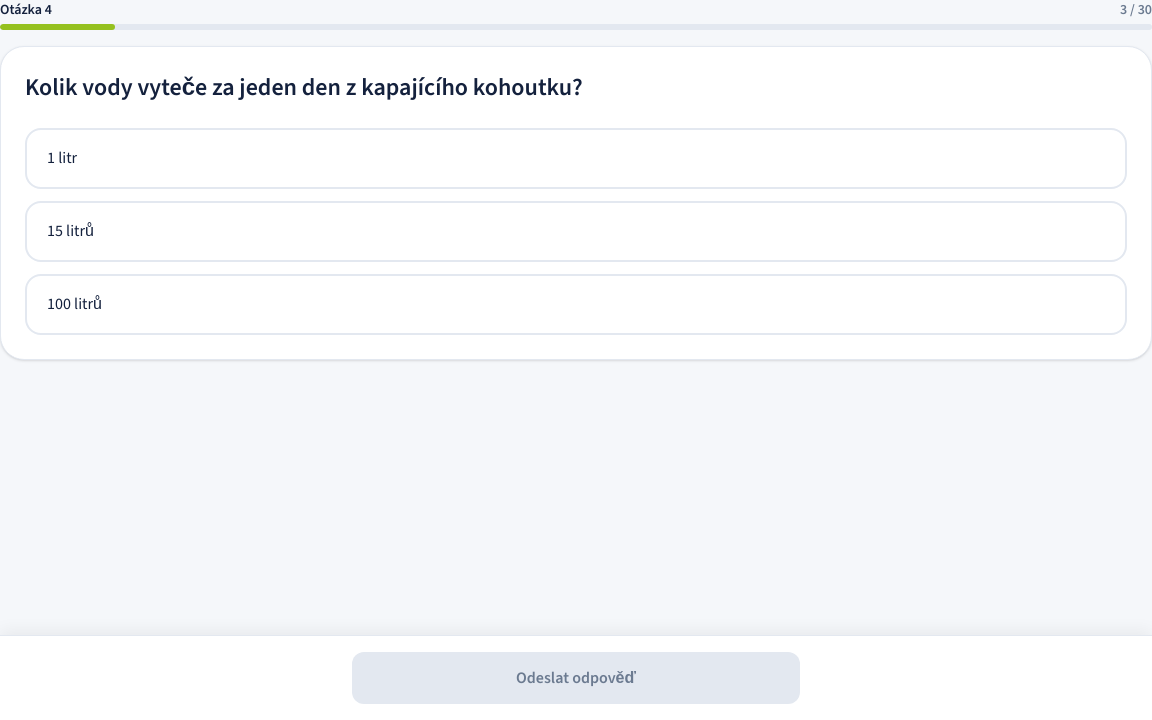
Test case: QuestionView › handles the race condition where the server reports already_answered on submit
The width and height of the screenshot is (1152, 720).
Click the radio button "1 litr" at point(62, 158), box x1=25 y1=128 x2=1127 y2=189
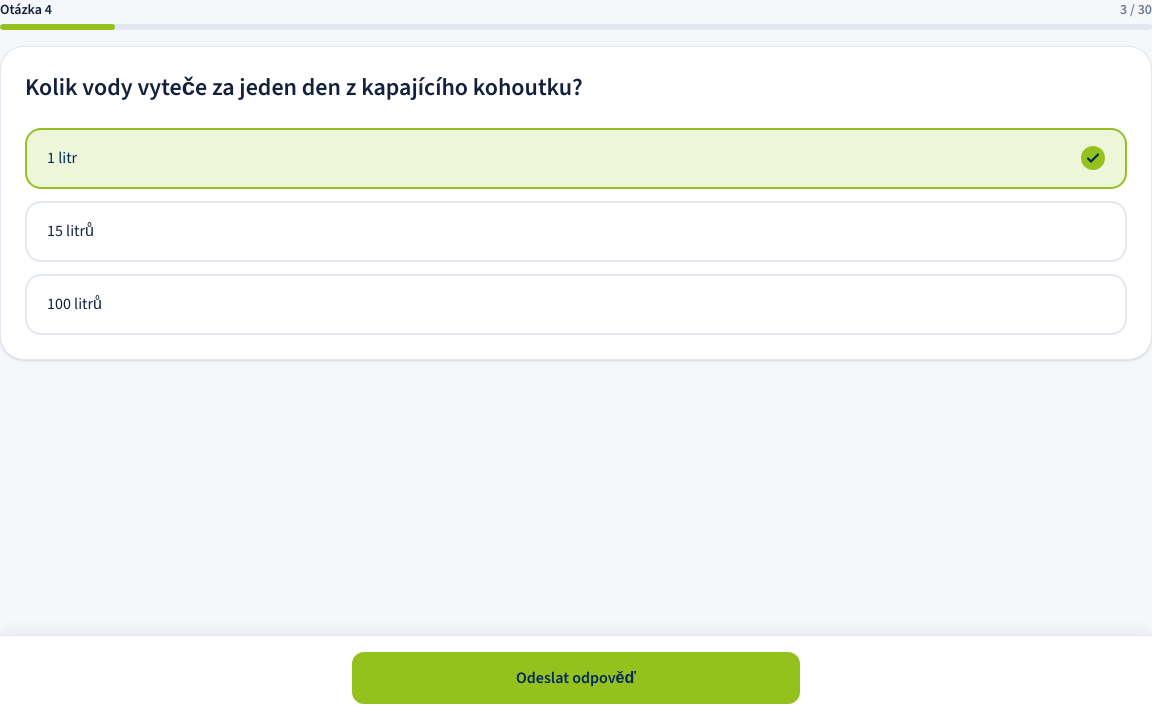
Click the button "Odeslat odpověď" at point(576, 678), box x1=352 y1=652 x2=800 y2=704
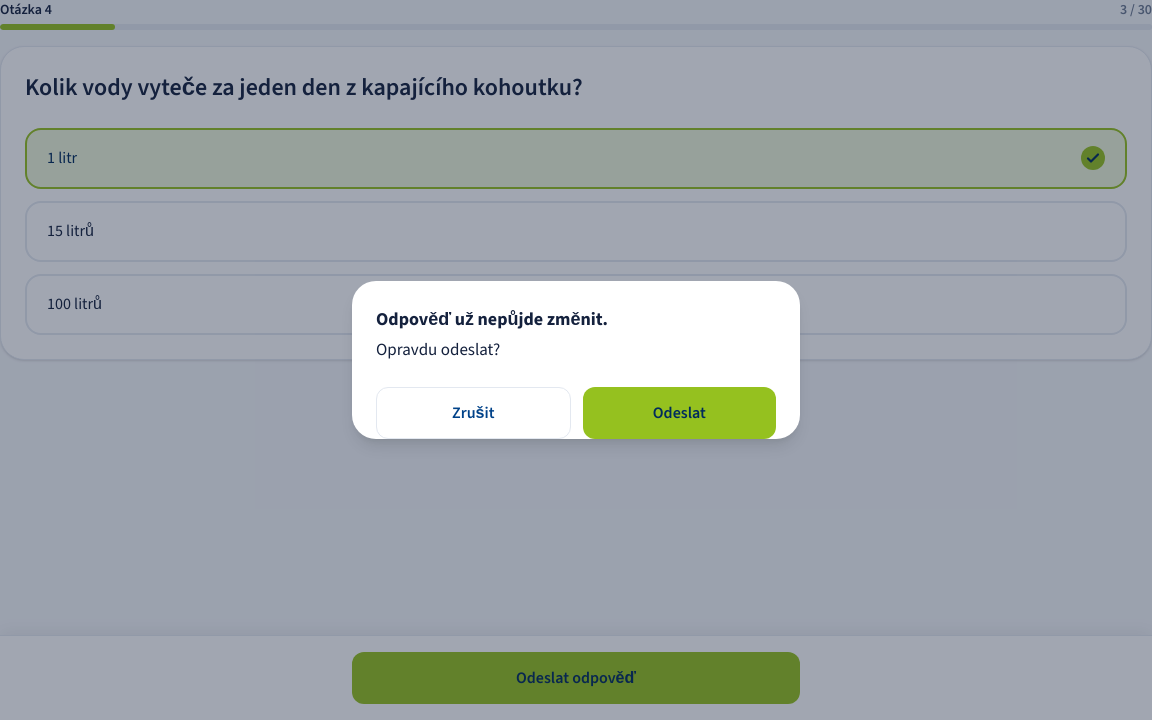
Click the button "Odeslat" at point(679, 413), box x1=583 y1=387 x2=776 y2=439
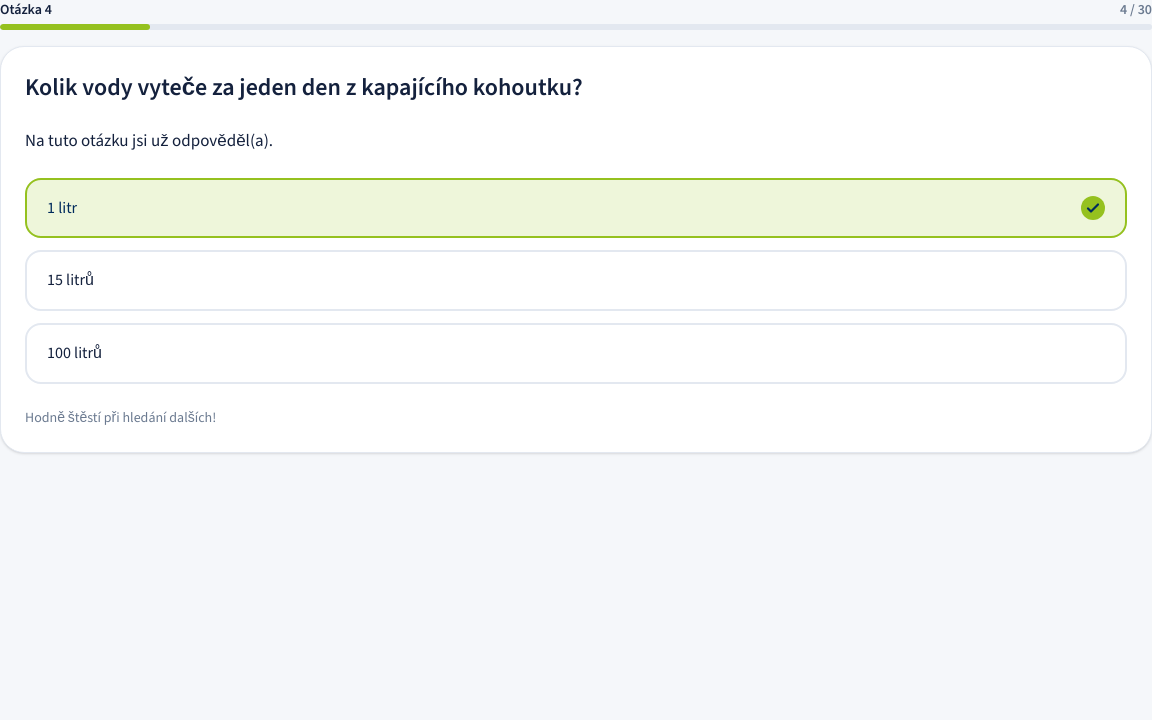
Expected: the text "Na tuto otázku jsi už odpověděl(a)." is shown, x1=25 y1=129 x2=273 y2=152
